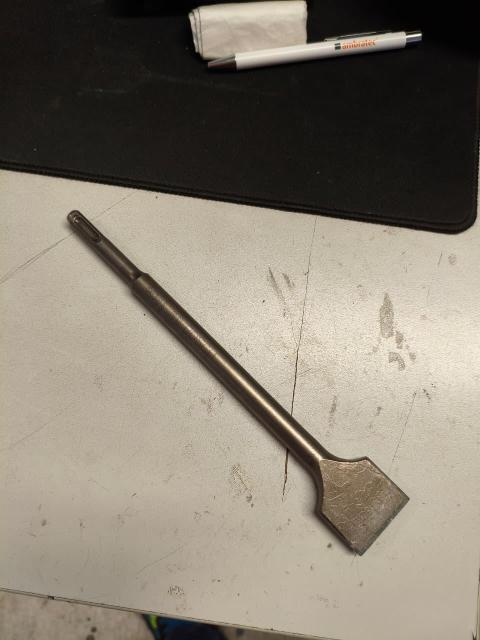Kagit: (190, 0, 317, 55)
Metal: (58, 208, 415, 558)
Plastik: (212, 35, 433, 75)
